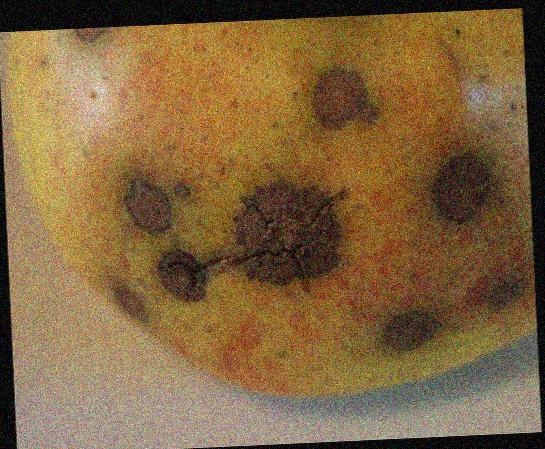rotten apple: (6, 20, 531, 401)
